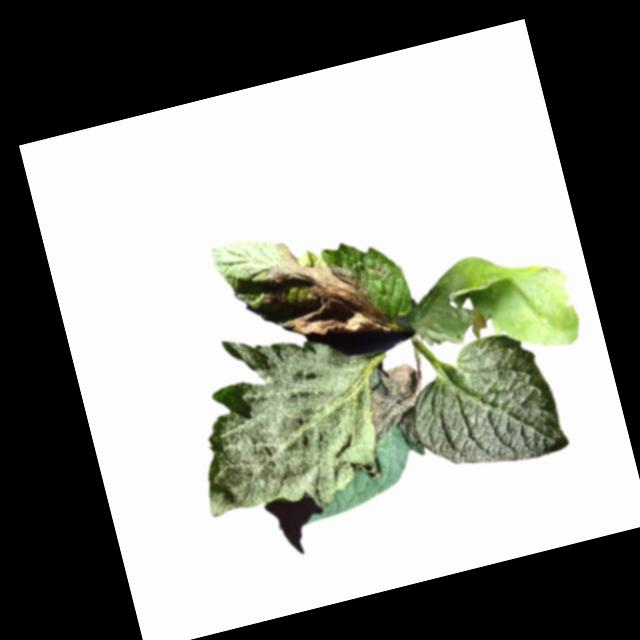Late_blight: (187, 319, 353, 494), (404, 233, 586, 379), (249, 221, 396, 361), (361, 358, 435, 455)
